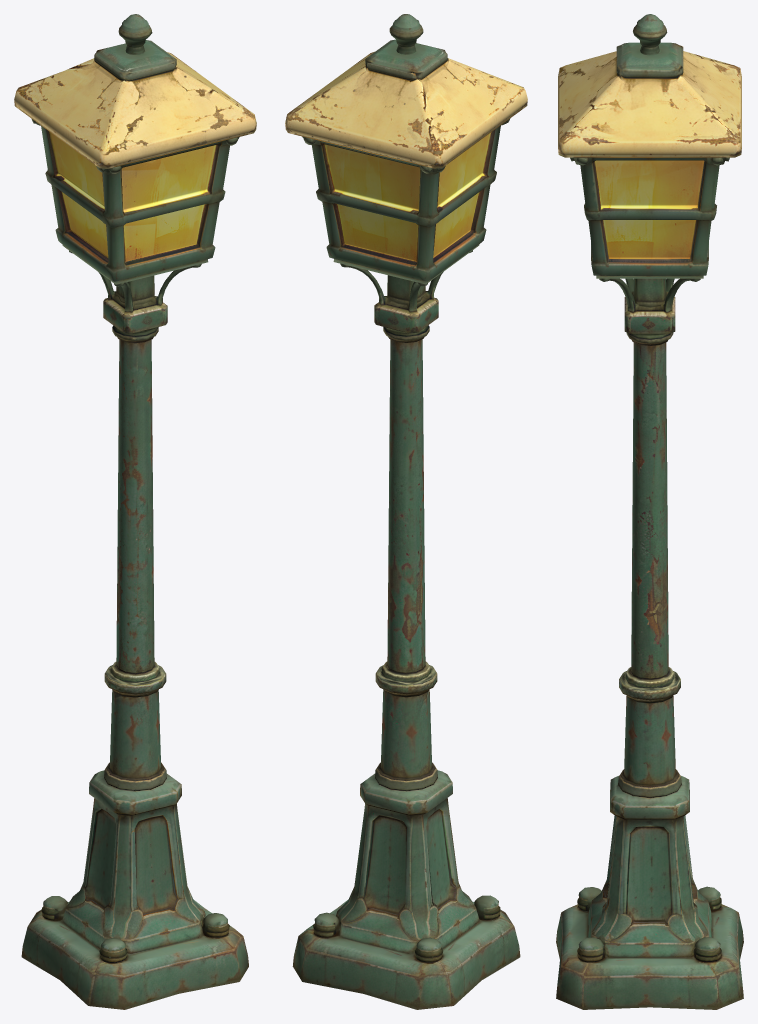
Rendered from P86_street_lamp_Engine.fbx.
3 views of the same model, side by side, from view 1: azimuth 30°, elevation 25°; view 2: azimuth 150°, elevation 25°; view 3: azimuth 270°, elevation 25° (orthographic).
Parts seen in each view (by area): view 1: tripo_node_033cd9a6; view 2: tripo_node_033cd9a6; view 3: tripo_node_033cd9a6.
Boxes of the visible parts, x1,y1,x2,y2 form: tripo_node_033cd9a6: [14, 14, 256, 1009]; tripo_node_033cd9a6: [285, 14, 527, 1009]; tripo_node_033cd9a6: [556, 14, 743, 1009].
Bounding box in the file's own units: 0.6143 × 3.45 × 0.6143.
1 material, 1 textured.
